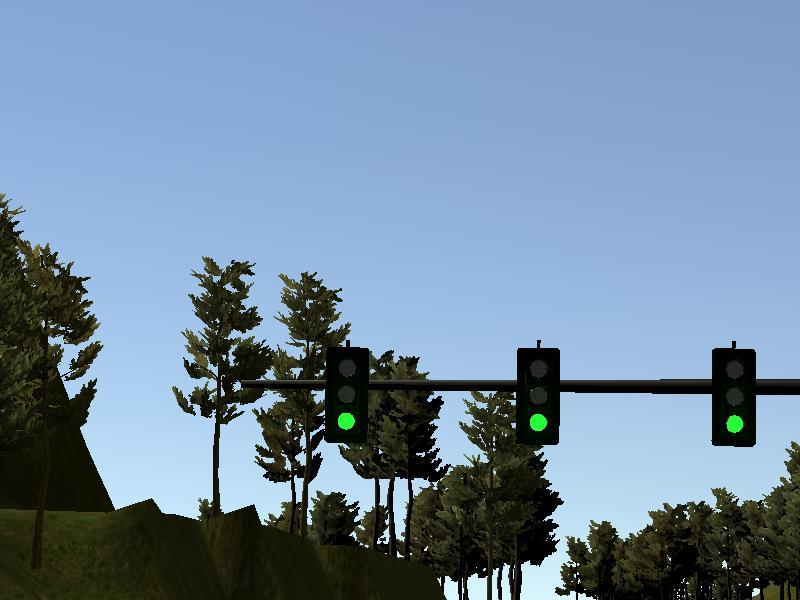Green: (327, 345, 364, 443), (518, 349, 557, 441), (715, 349, 753, 443)
